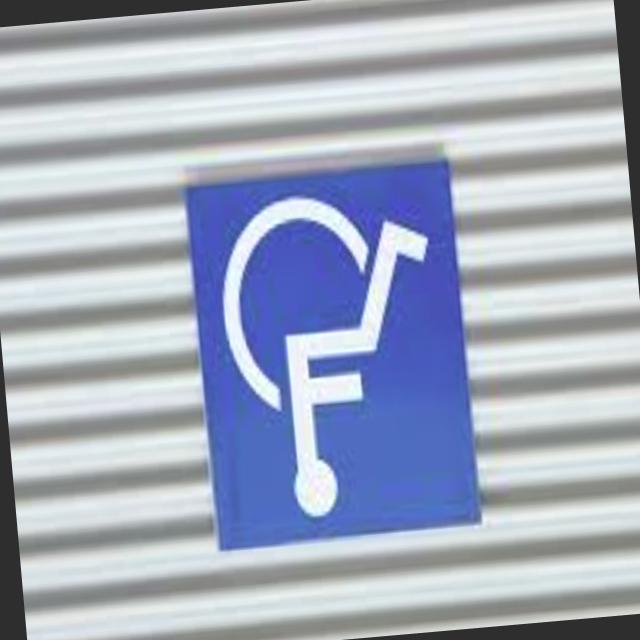symbol_of_access: (179, 154, 484, 554)
